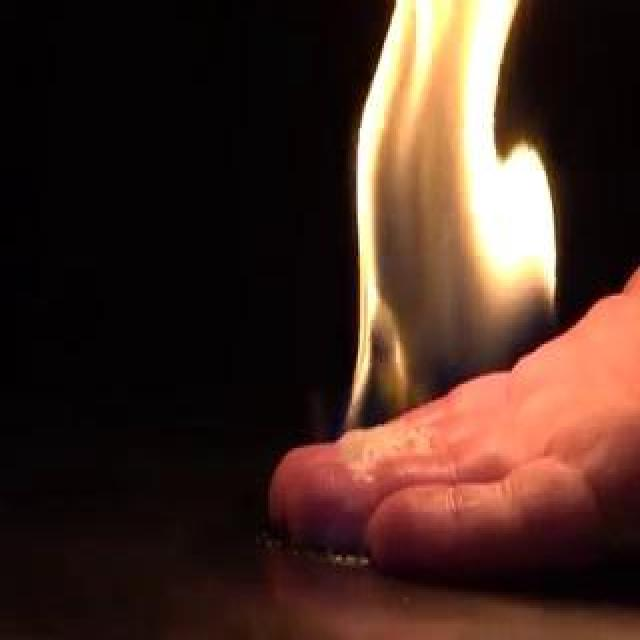Fire: (352, 3, 550, 429)
